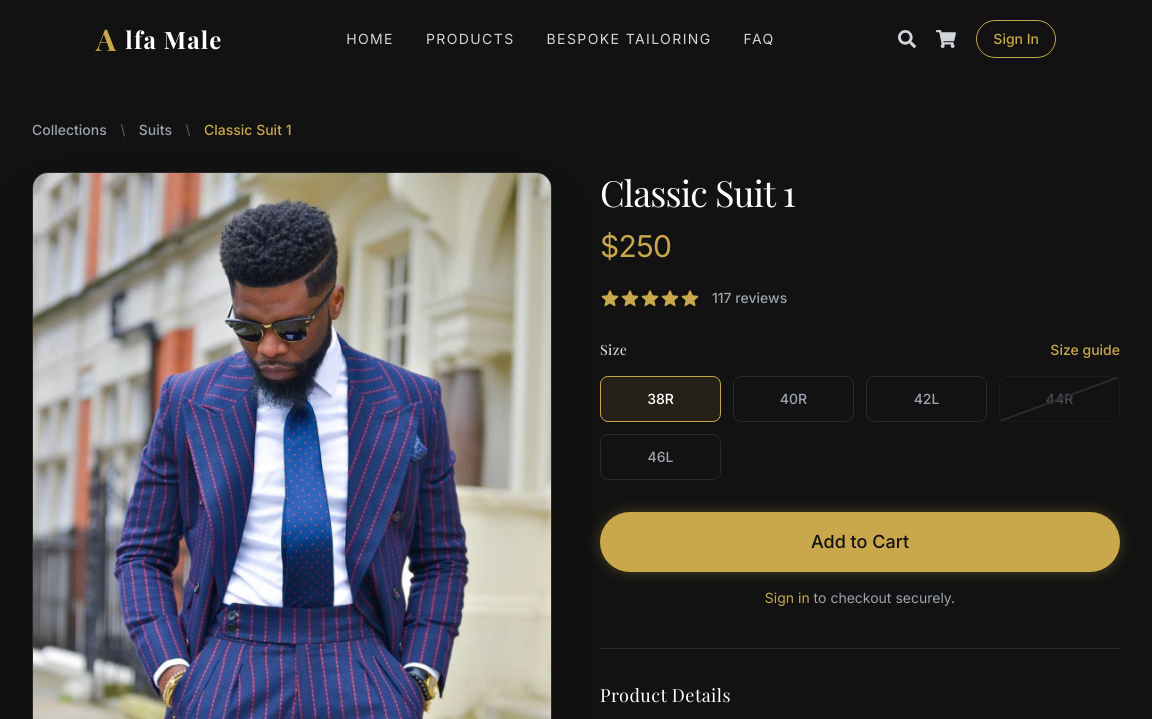
customer shopping journey › returns a customer to the product page after the add-to-cart login guard
Click the button "Add to Cart" at (860, 542), box [600, 512, 1120, 572]
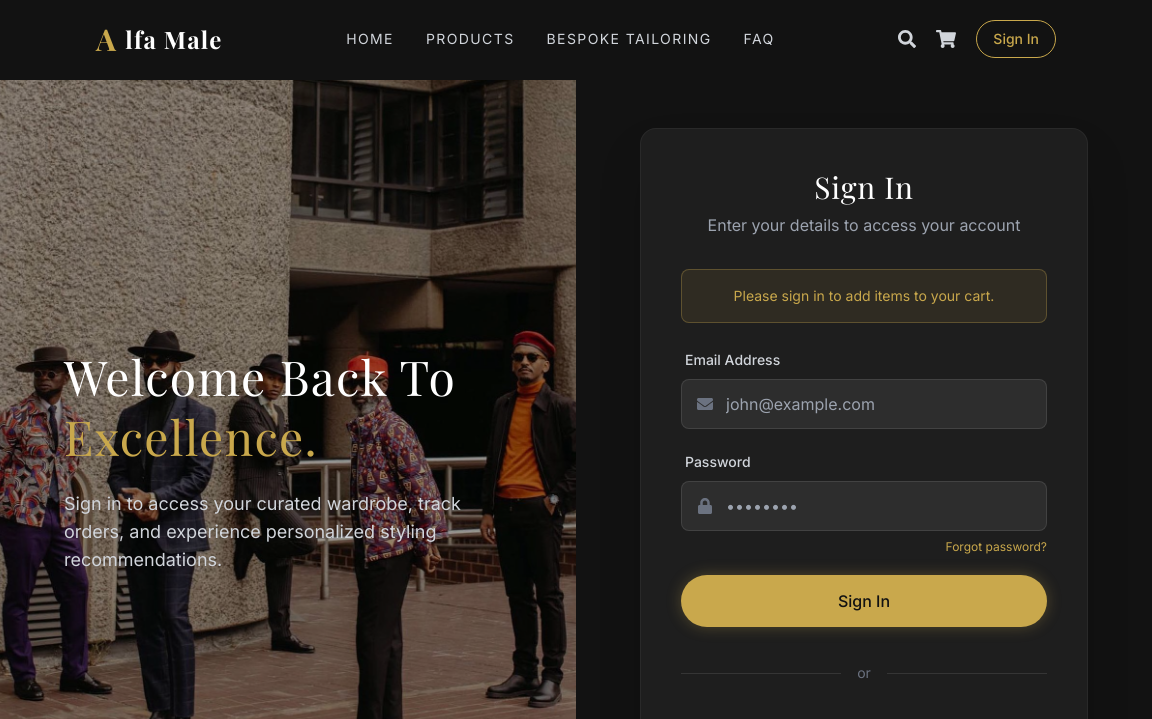
Check: the text "Please sign in to add items to your cart." is shown, box [681, 269, 1047, 323]
Type "customer@example.com" into the field with placeholder "john@example.com" at (864, 404), box [681, 379, 1047, 429]
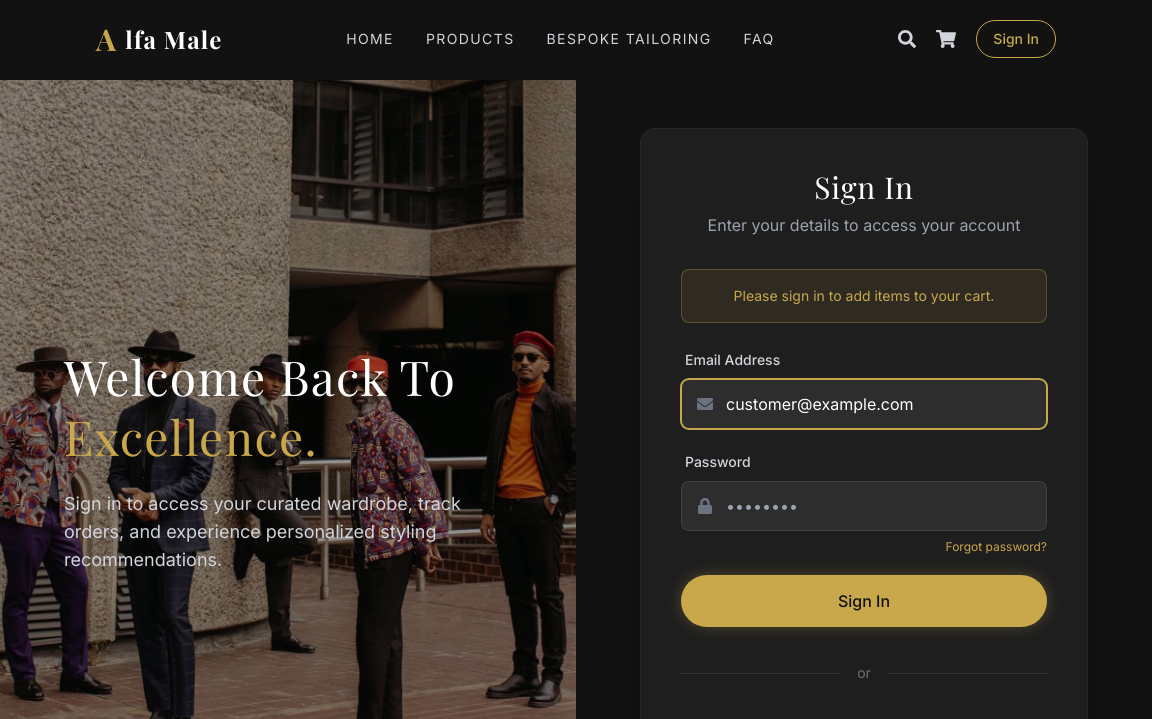
Type "password123" into the password field with placeholder "••••••••" at (864, 506), box [681, 481, 1047, 531]
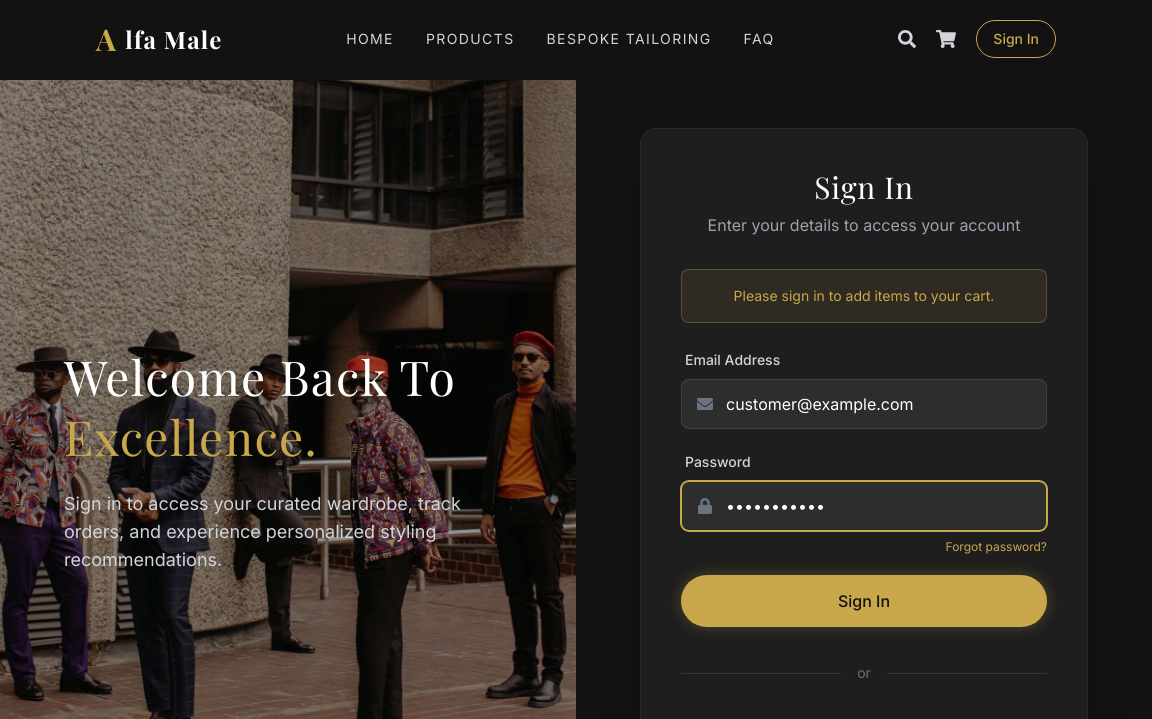
Click the button "Sign In" at (864, 601), box [681, 575, 1047, 627]
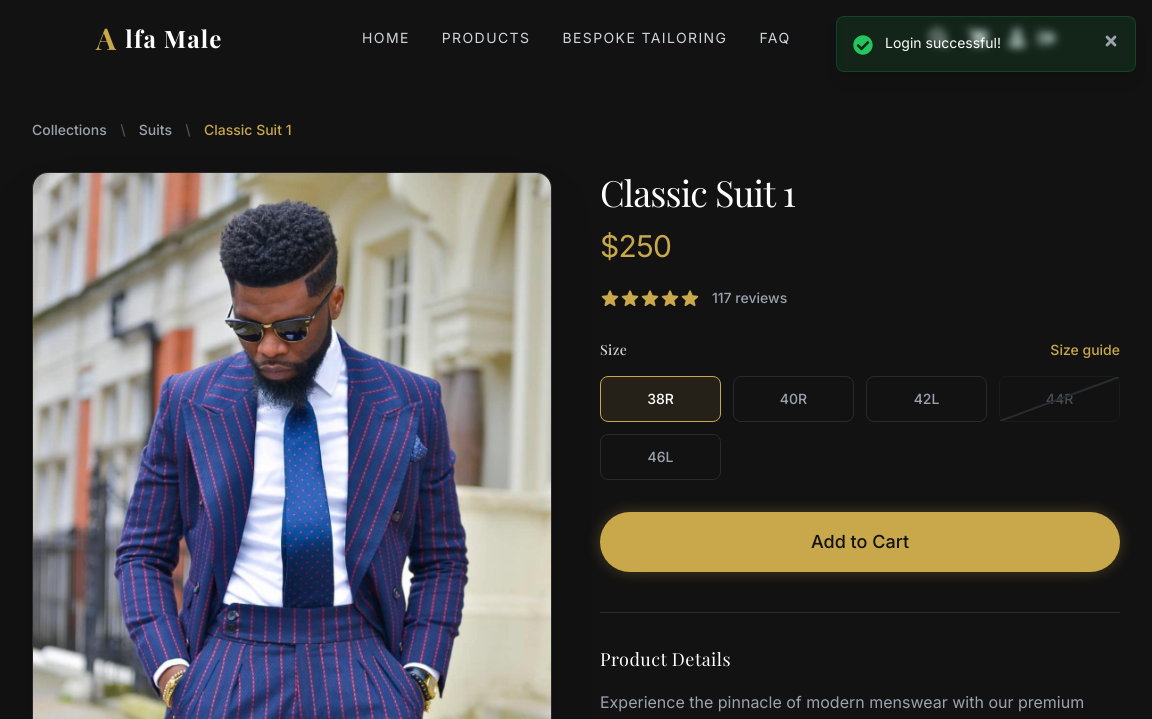
Check: the heading "Classic Suit 1" is shown, box [600, 168, 795, 216]
